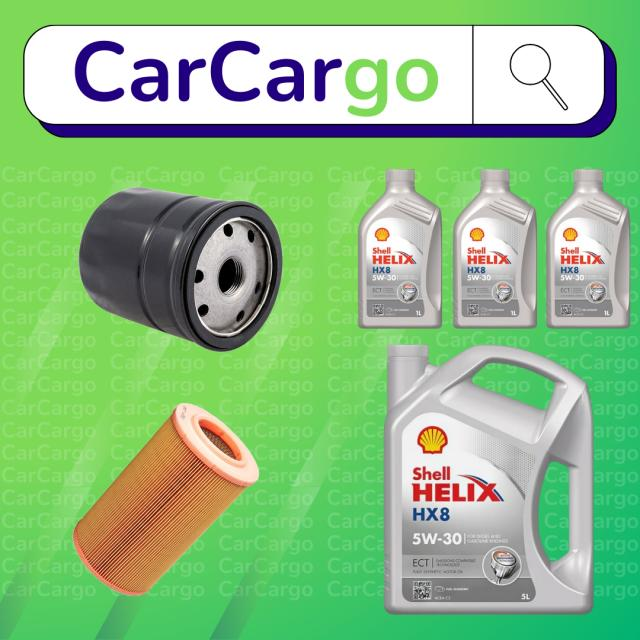motor_oil: (381, 339, 599, 622), (451, 167, 543, 330), (544, 162, 634, 328), (356, 165, 445, 331)
oil_filter: (67, 398, 269, 602), (73, 171, 291, 351)
